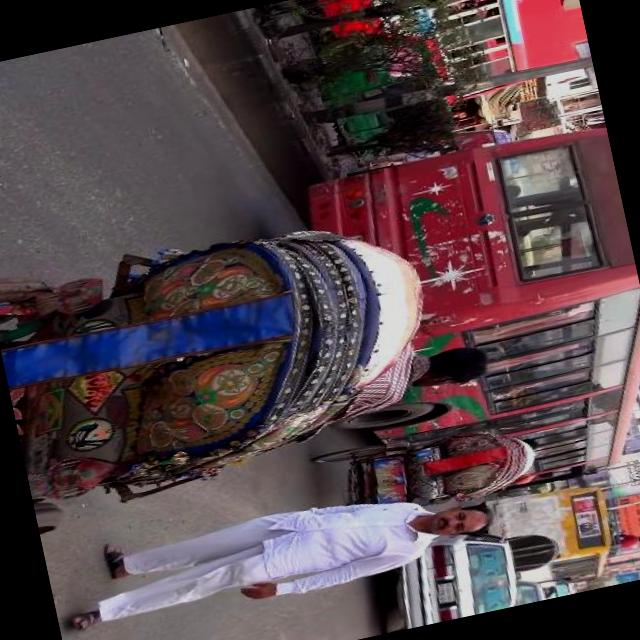bus: (297, 115, 640, 527), (301, 0, 542, 129), (482, 475, 628, 606)
car: (366, 518, 526, 634)
motorcycle: (0, 175, 505, 537), (302, 408, 556, 538), (281, 23, 464, 173)
